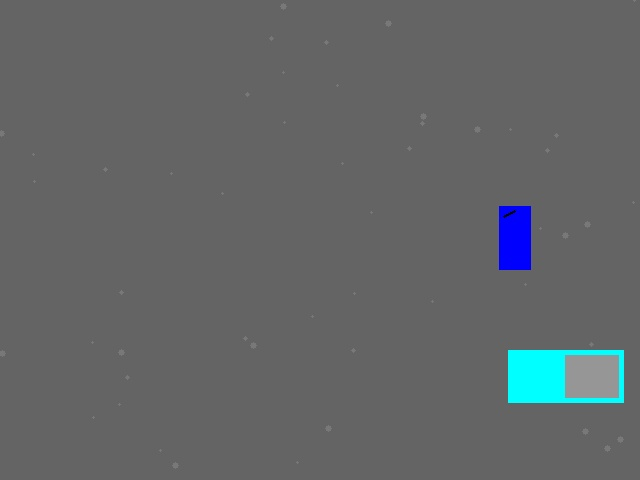motorcycle: (499, 206, 530, 269)
truck: (508, 350, 623, 402)
